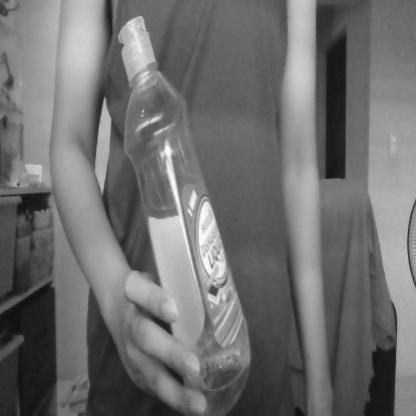Plastic Bottle: (117, 15, 257, 416)
